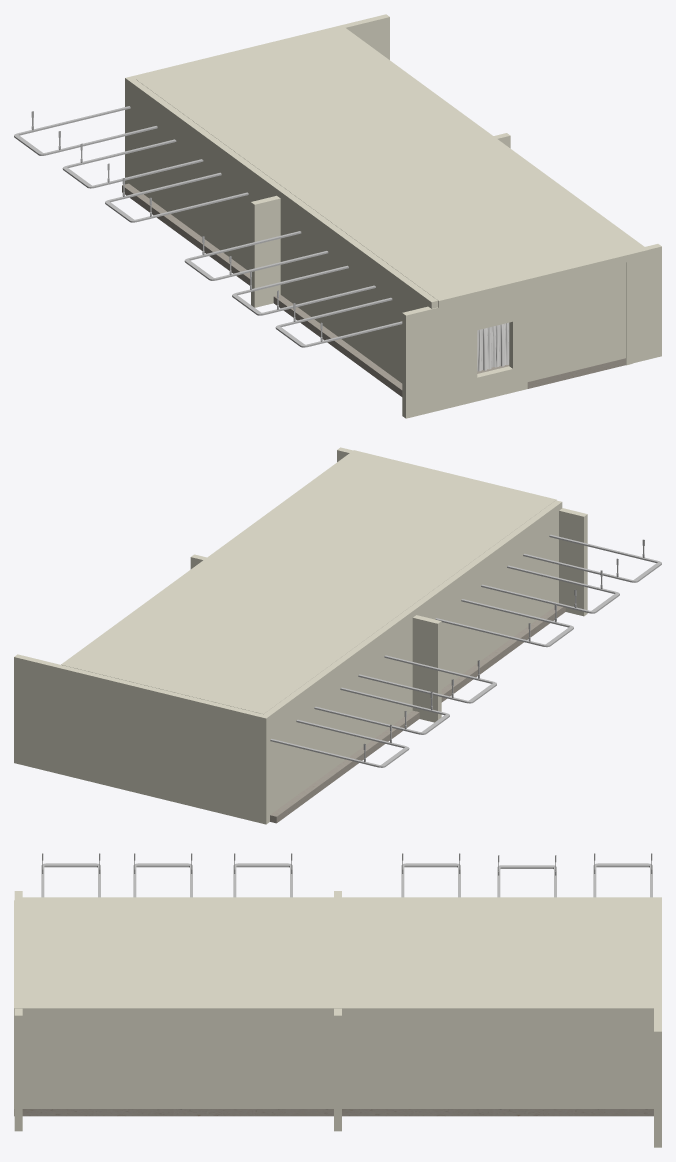
3 renders of one model, top to bottom at view 1: azimuth 30°, elevation 25°; view 2: azimuth 150°, elevation 25°; view 3: azimuth 270°, elevation 25°, orthographic. The views are drawn at different scales.
Visible parts, largest first — view 1: Wall_400x203, Wall_400x204, Wall_400x202, Wall_400x213, Wall_Window_400x301, Wall_Window_400x300, Wall_400x210, Wall_400x209, Wall_400x206, defaultMaterial106, defaultMaterial110, defaultMaterial112 (+8 smaller); view 2: Wall_400x203, Wall_400x201, Wall_400x202, Wall_400x206, Wall_400x204, Wall_Window_400x300, Wall_Window_400x301, Wall_400x209, Wall_400x210, defaultMaterial114, defaultMaterial106, defaultMaterial112 (+3 smaller); view 3: Wall_400x203, Wall_400x205, Wall_400x212, Wall_400x211, Wall_400x206, Wall_400x202, Wall_400x204, Wall_400x213, Wall_400x200, Wall_400x201, defaultMaterial106, defaultMaterial110 (+4 smaller).
Boxes of the visible parts, box(x1,y1,x2,y2) form: Wall_400x203: box(136, 27, 648, 307); Wall_400x204: box(280, 189, 438, 383); Wall_400x202: box(129, 79, 285, 269); Wall_400x213: box(530, 244, 661, 381); Wall_Window_400x301: box(402, 273, 584, 418); Wall_Window_400x300: box(251, 195, 280, 307); Wall_400x210: box(273, 294, 508, 396); Wall_400x209: box(122, 183, 250, 285); Wall_400x206: box(255, 14, 389, 59); defaultMaterial106: box(105, 172, 248, 222); defaultMaterial110: box(14, 106, 157, 155); defaultMaterial112: box(184, 231, 328, 280); Wall_400x203: box(61, 450, 556, 714); Wall_400x201: box(139, 685, 269, 824); Wall_400x202: box(264, 607, 416, 814); Wall_400x206: box(14, 654, 142, 793); Wall_400x204: box(409, 500, 562, 688); Wall_Window_400x300: box(412, 615, 441, 722); Wall_Window_400x301: box(559, 508, 587, 616); Wall_400x209: box(270, 710, 419, 823); Wall_400x210: box(441, 605, 565, 702); defaultMaterial114: box(481, 565, 619, 613); defaultMaterial106: box(358, 655, 496, 703); defaultMaterial112: box(435, 599, 573, 647); Wall_400x203: box(14, 900, 653, 1015); Wall_400x205: box(14, 1015, 653, 1115); Wall_400x212: box(14, 1109, 333, 1116); Wall_400x211: box(342, 1109, 653, 1116); Wall_400x206: box(654, 964, 661, 1147); Wall_400x202: box(334, 897, 653, 900); Wall_400x204: box(15, 897, 335, 900); Wall_400x213: box(14, 1008, 22, 1131); Wall_400x200: box(334, 1008, 341, 1131); Wall_400x201: box(654, 897, 661, 964); defaultMaterial106: box(401, 853, 460, 897); defaultMaterial110: box(593, 853, 652, 897).
Size of the model in its own units: 11.51 by 3.2 by 16.2.
